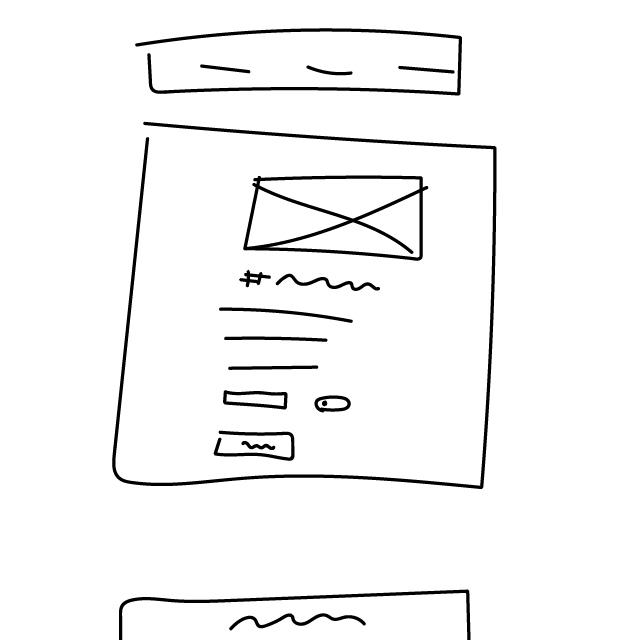button: (211, 425, 302, 466)
checkbox: (314, 396, 354, 415)
container: (108, 117, 525, 509)
footer: (111, 587, 485, 640)
frame: (242, 171, 434, 265)
heading: (236, 266, 385, 298)
input: (220, 388, 295, 412)
nav: (131, 27, 471, 100)
text: (216, 307, 363, 373)
